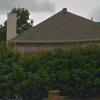Chimney: (4, 6, 26, 41)
